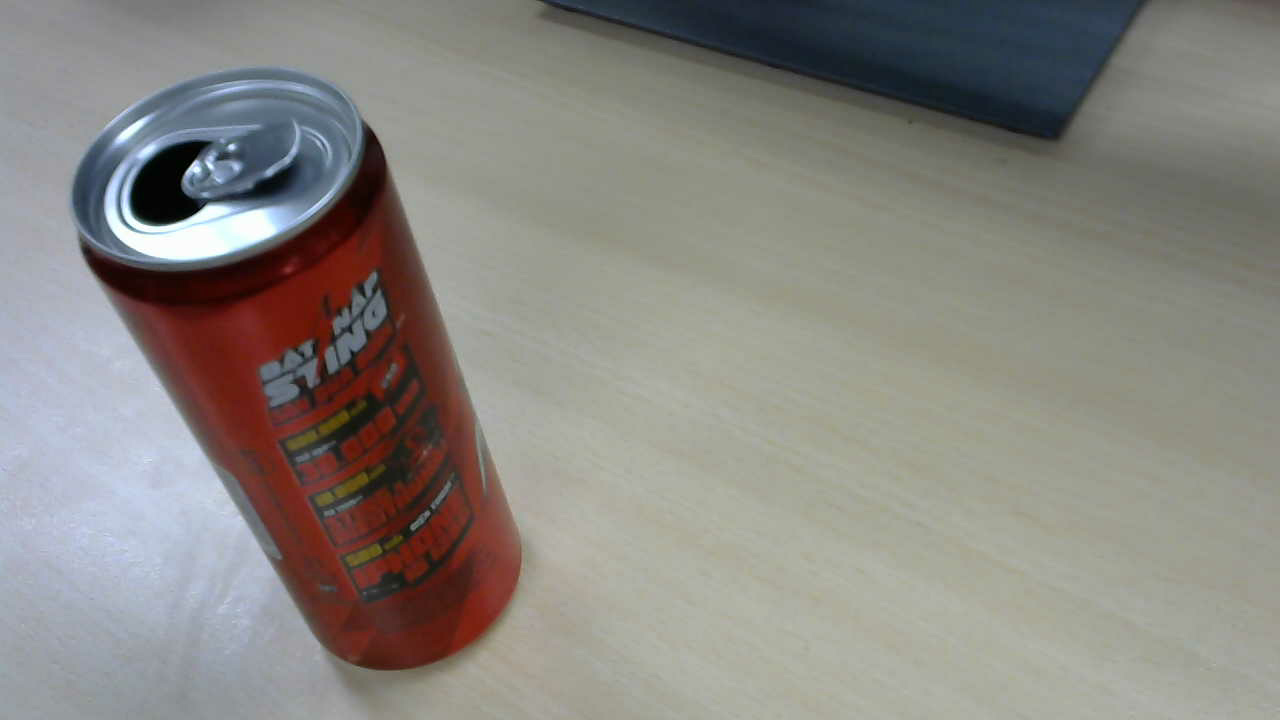Sting: (71, 69, 529, 671)
